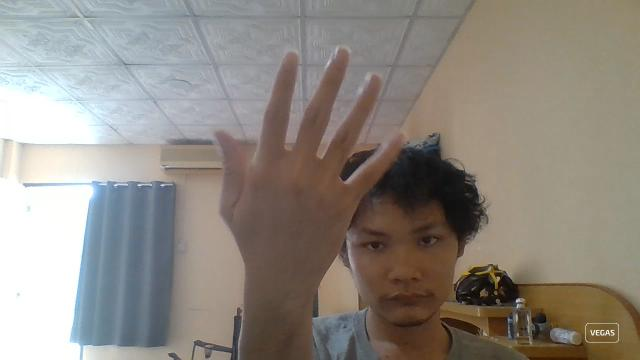backword: (214, 46, 406, 298)
